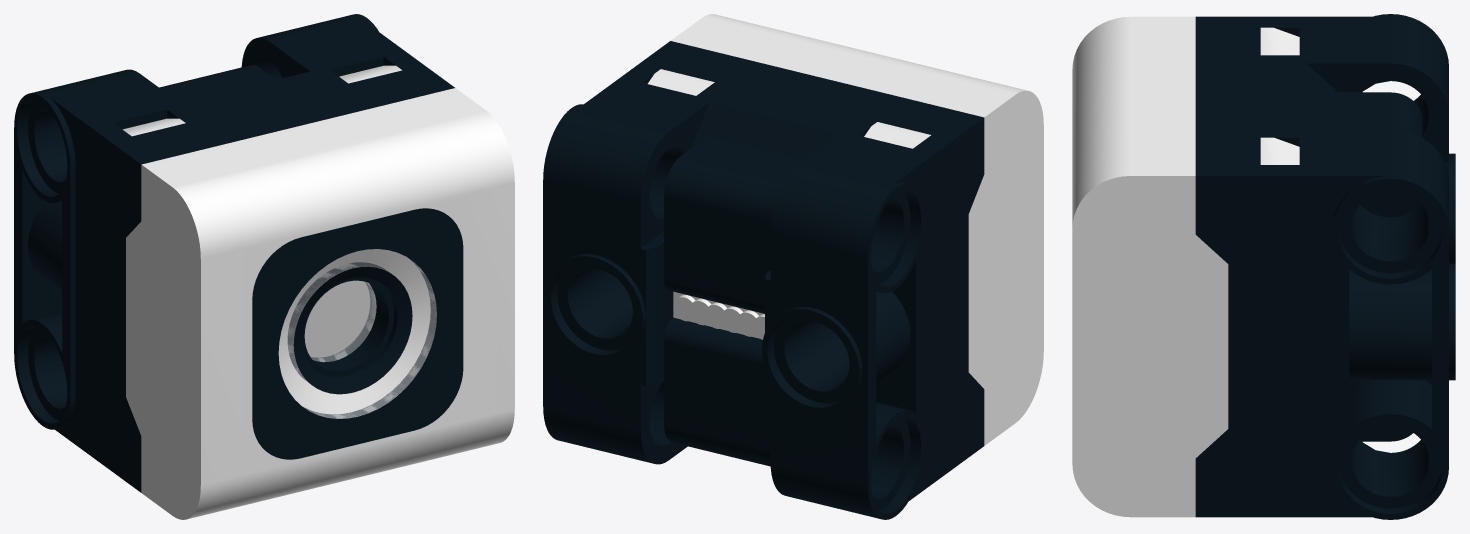
The model's file is color-sensor.obj.
3 renders of one model, left to right at view 1: azimuth 30°, elevation 25°; view 2: azimuth 150°, elevation 25°; view 3: azimuth 270°, elevation 25°, orthographic. The views are drawn at different scales.
Parts seen in each view (by area): view 1: Base, sym_1, sym_12, sym_85; view 2: Base, sym_1, sym_1000; view 3: Base, sym_1.
Boxes of the visible parts, x1,y1,x2,y2 form: Base: [14, 14, 463, 492]; sym_1: [122, 65, 514, 519]; sym_12: [278, 249, 436, 418]; sym_85: [305, 281, 369, 357]; Base: [543, 41, 984, 519]; sym_1: [647, 14, 1043, 445]; sym_1000: [673, 291, 764, 339]; Base: [1195, 14, 1455, 519]; sym_1: [1072, 16, 1299, 517].
Size of the model in its own units: 59.75 by 57.75 by 58.75.
